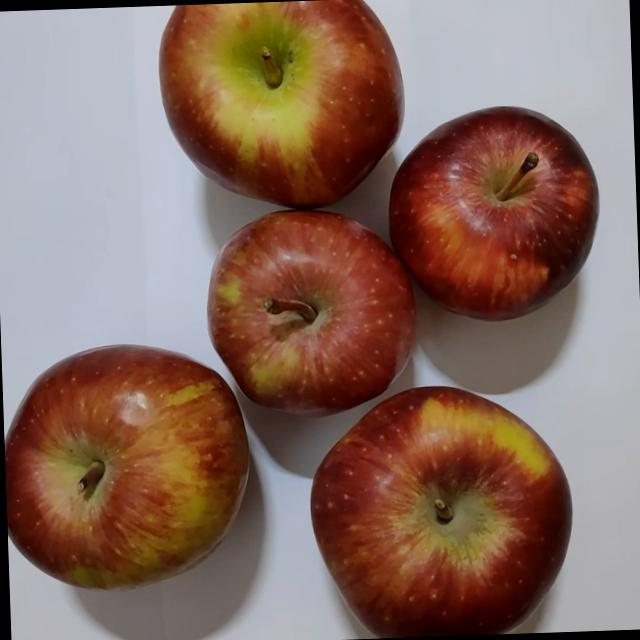apple: (292, 379, 568, 640), (0, 335, 258, 601), (145, 0, 410, 228), (188, 203, 422, 433), (372, 103, 599, 340)
